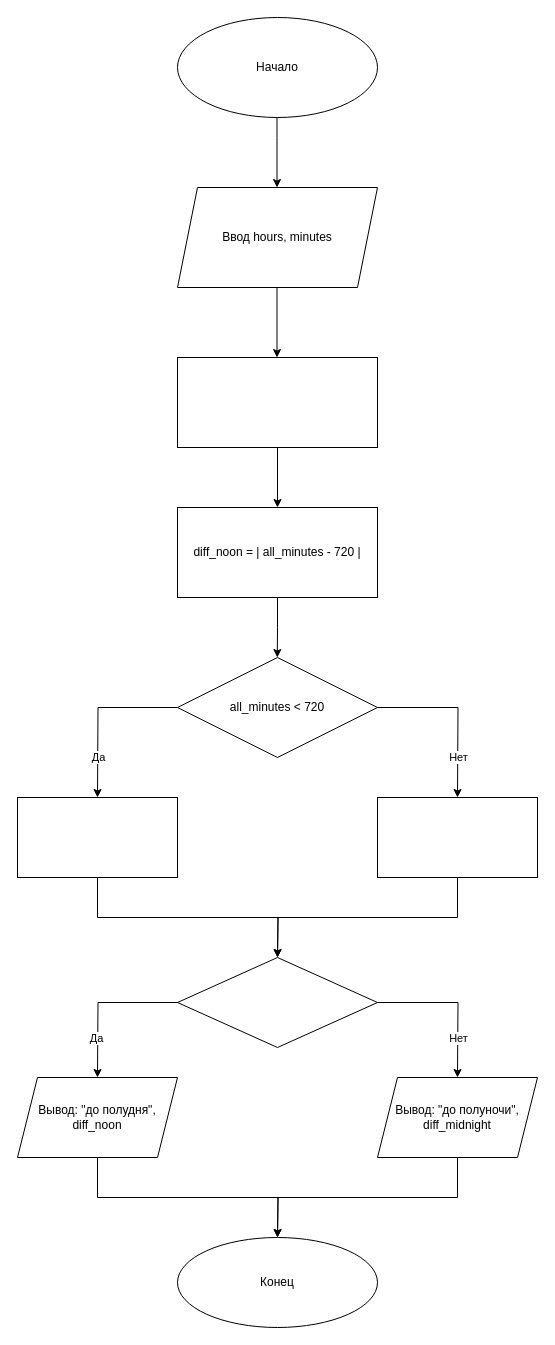
Image size: 555x1345. Some labels were removed from this diagram. The centre of each missing label's shape, as x and y in pixels:
"all_minutes = hours * 60 + minutes" goes at (x=277, y=402).
"diff_midnight = 1440 - all_minutes" goes at (x=457, y=837).
"diff_midnight = all_minutes" goes at (x=97, y=837).
"diff_noon <= diff_midnight" goes at (x=277, y=1002).
